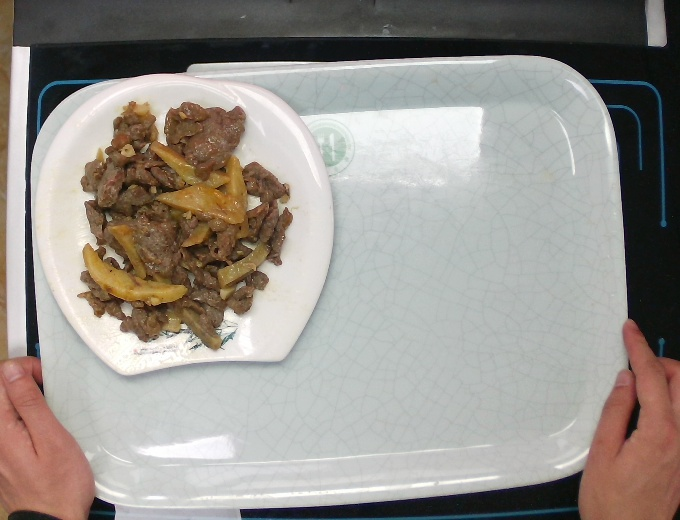JYsf-Mian_Pan: (32, 71, 336, 377)
